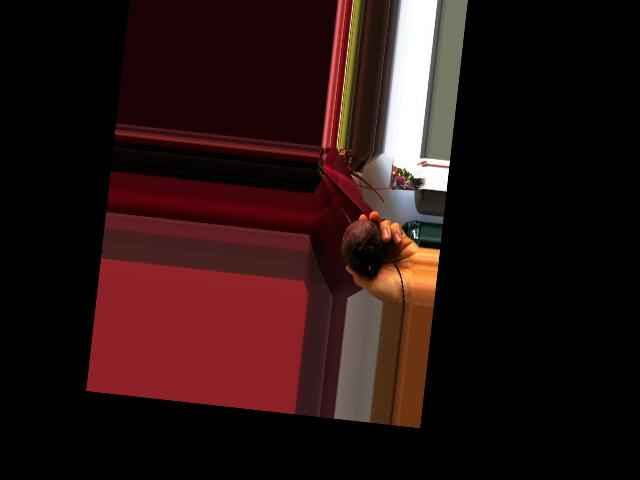beet: (328, 205, 415, 303)
